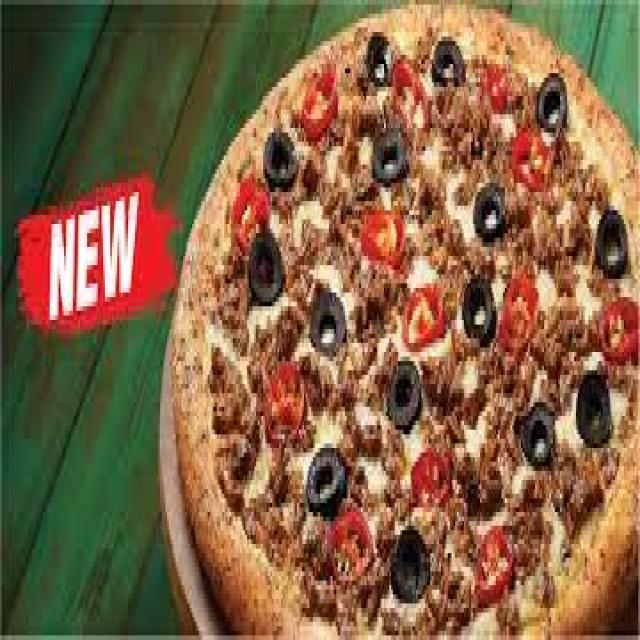피자: (160, 5, 640, 640)
